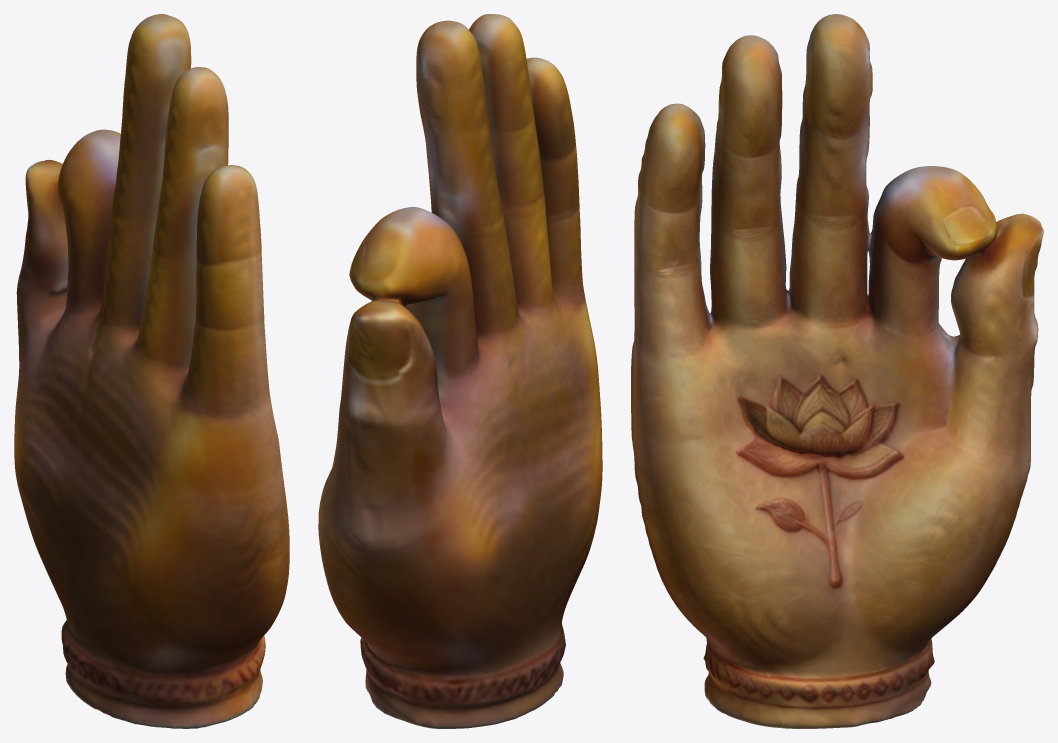
The model's file is buddha_mudra_3d.glb.
3 views of the same model, side by side, from view 1: azimuth 30°, elevation 25°; view 2: azimuth 150°, elevation 25°; view 3: azimuth 270°, elevation 25° (orthographic). The views are drawn at different scales.
Parts seen in each view (by area): view 1: tripo_node_473882ff-e4fb-46c8-ae28-2c4cdf9184aa; view 2: tripo_node_473882ff-e4fb-46c8-ae28-2c4cdf9184aa; view 3: tripo_node_473882ff-e4fb-46c8-ae28-2c4cdf9184aa.
Boxes of the visible parts, left/top/right/bottom form: tripo_node_473882ff-e4fb-46c8-ae28-2c4cdf9184aa: left=14, top=14, right=289, bottom=728; tripo_node_473882ff-e4fb-46c8-ae28-2c4cdf9184aa: left=318, top=14, right=602, bottom=728; tripo_node_473882ff-e4fb-46c8-ae28-2c4cdf9184aa: left=631, top=14, right=1043, bottom=728.
Bounding box in the file's own units: 0.2513 × 0.9219 × 0.5081.
Materials: 1 (1 with a texture image).
